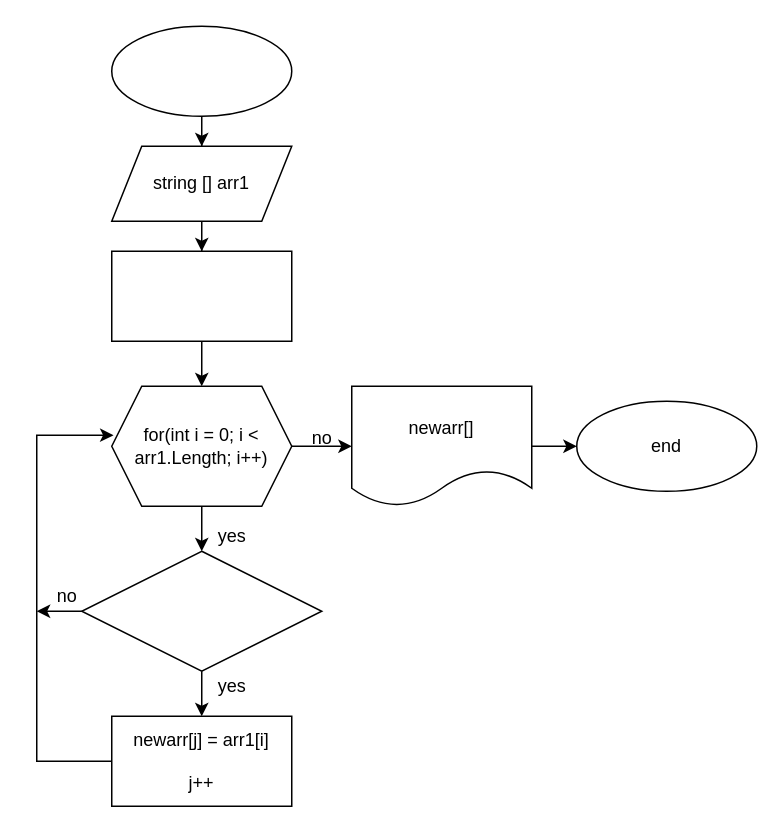
Some shapes in this 783 by 833 pixel diagram are drawn without their labels. The centre of each missing label's shape, as x and y in pixels:
"arr1[i].Length <= 3" goes at (x=201, y=610).
"start" goes at (x=201, y=70).
"string[] newarr = new string[arr1.Length] int j = 0" goes at (x=201, y=295).
